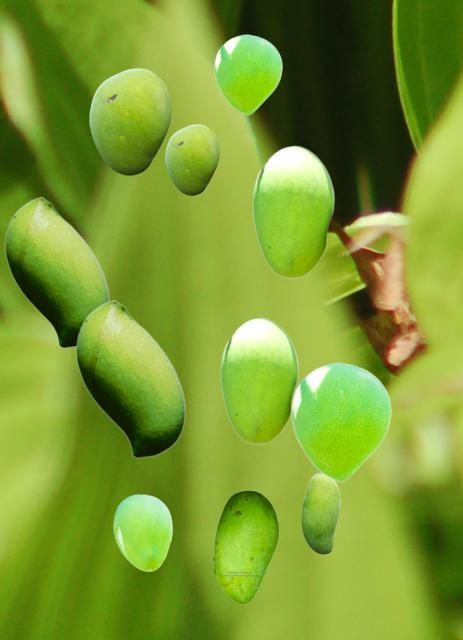green_mango: (75, 299, 184, 457), (4, 196, 108, 347), (291, 362, 390, 481), (252, 145, 333, 277), (220, 317, 297, 443), (89, 68, 170, 174), (212, 490, 278, 603), (214, 34, 281, 114), (113, 494, 171, 570), (165, 124, 218, 194), (301, 472, 339, 553)
